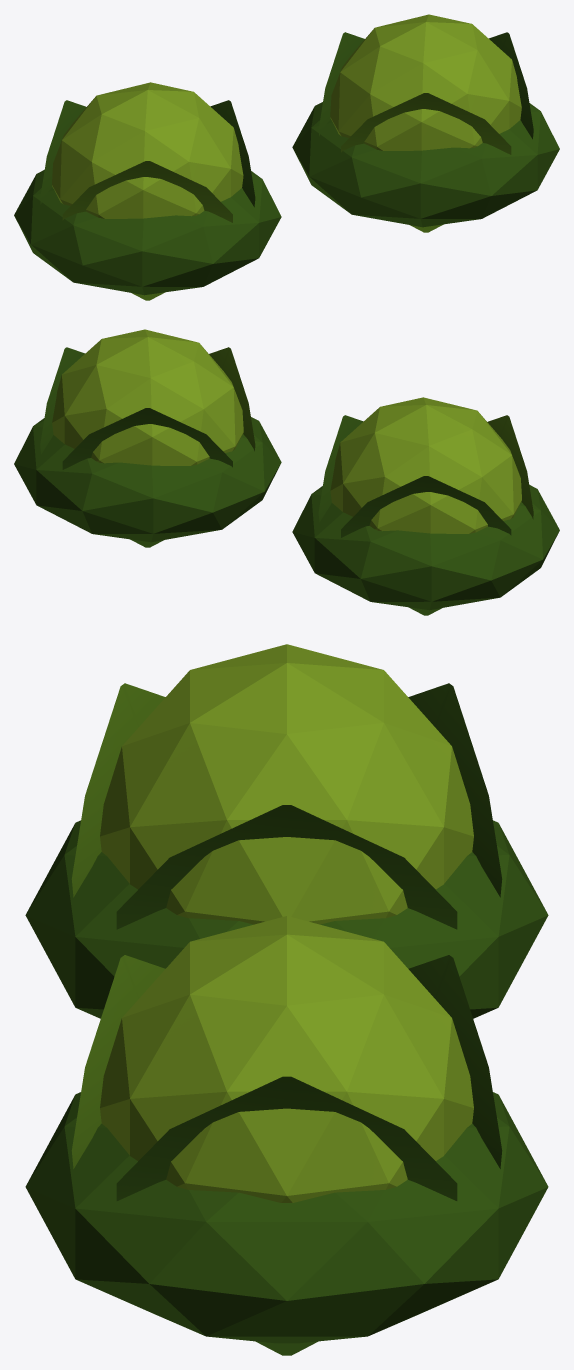
File: pile-lettuce-2.obj
3 renders of one model, top to bottom at view 1: azimuth 30°, elevation 25°; view 2: azimuth 150°, elevation 25°; view 3: azimuth 270°, elevation 25°, orthographic. The views are drawn at different scales.
Visible parts, largest first — view 1: pile-lettuce-2; view 2: pile-lettuce-2; view 3: pile-lettuce-2.
Boxes of the visible parts, x1,y1,x2,y2 form: pile-lettuce-2: (14,14,559,300); pile-lettuce-2: (14,329,559,615); pile-lettuce-2: (25,644,548,1355).
Size of the model in its own units: 0.4416 by 0.1512 by 0.1953.
Materials: 1 (1 with a texture image).
